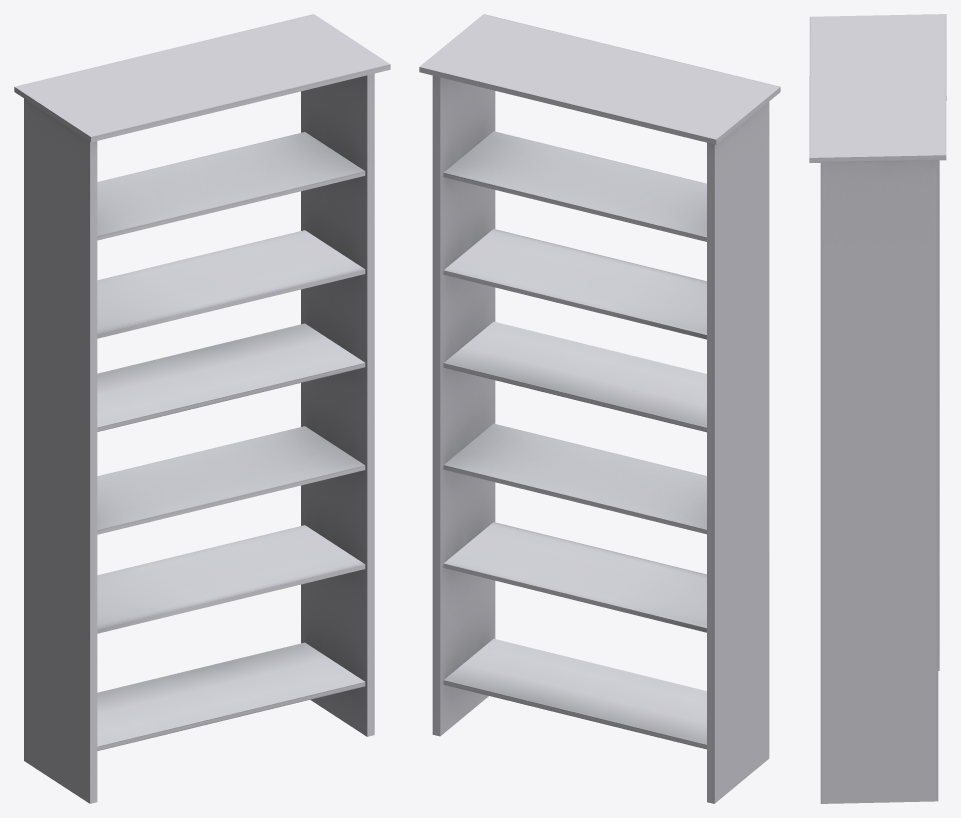
The model's file is frl_apartment_wall_cabinet_02.glb.
3 views of the same model, side by side, from view 1: azimuth 30°, elevation 25°; view 2: azimuth 150°, elevation 25°; view 3: azimuth 270°, elevation 25° (orthographic). The views are drawn at different scales.
Parts seen in each view (by area): view 1: frl_apartment_wall_cabinet_02; view 2: frl_apartment_wall_cabinet_02; view 3: frl_apartment_wall_cabinet_02.
Boxes of the visible parts, left/top/right/bottom form: frl_apartment_wall_cabinet_02: left=14, top=14, right=390, bottom=803; frl_apartment_wall_cabinet_02: left=419, top=14, right=780, bottom=803; frl_apartment_wall_cabinet_02: left=809, top=14, right=946, bottom=803.
Size of the model in its own units: 0.9407 by 1.98 by 0.38.
Materials: 1 (1 with a texture image).
